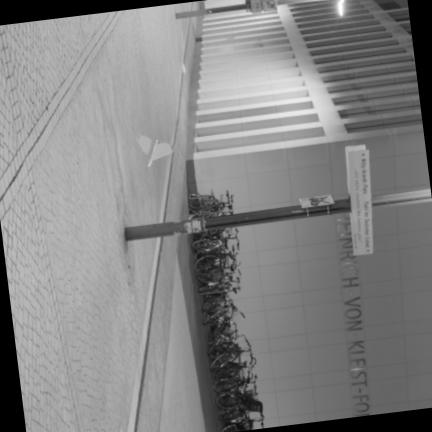Shahed: (136, 134, 172, 166)
